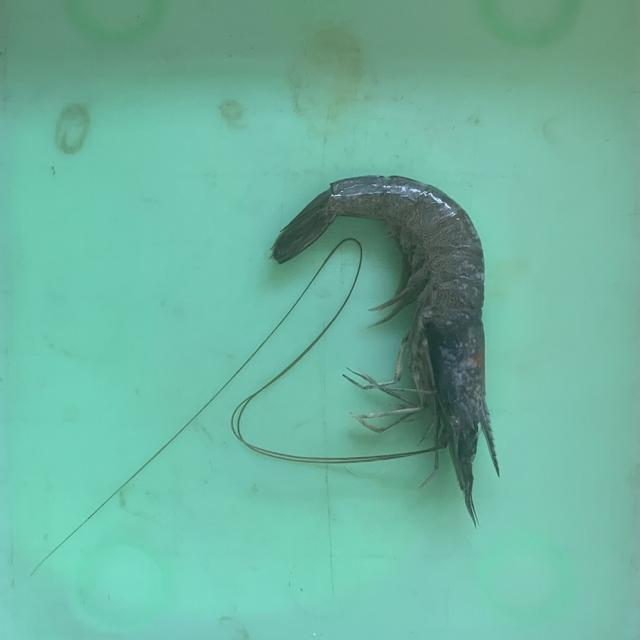shrimp: (246, 175, 500, 524)
